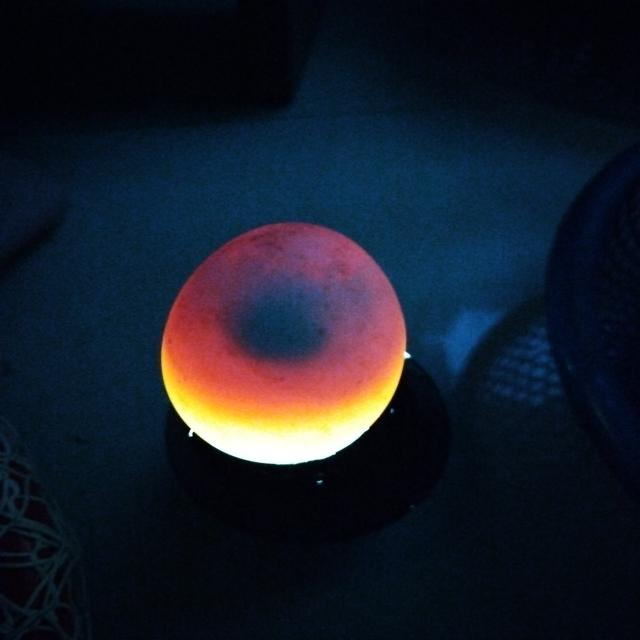Area Infectada: (207, 255, 369, 363)
